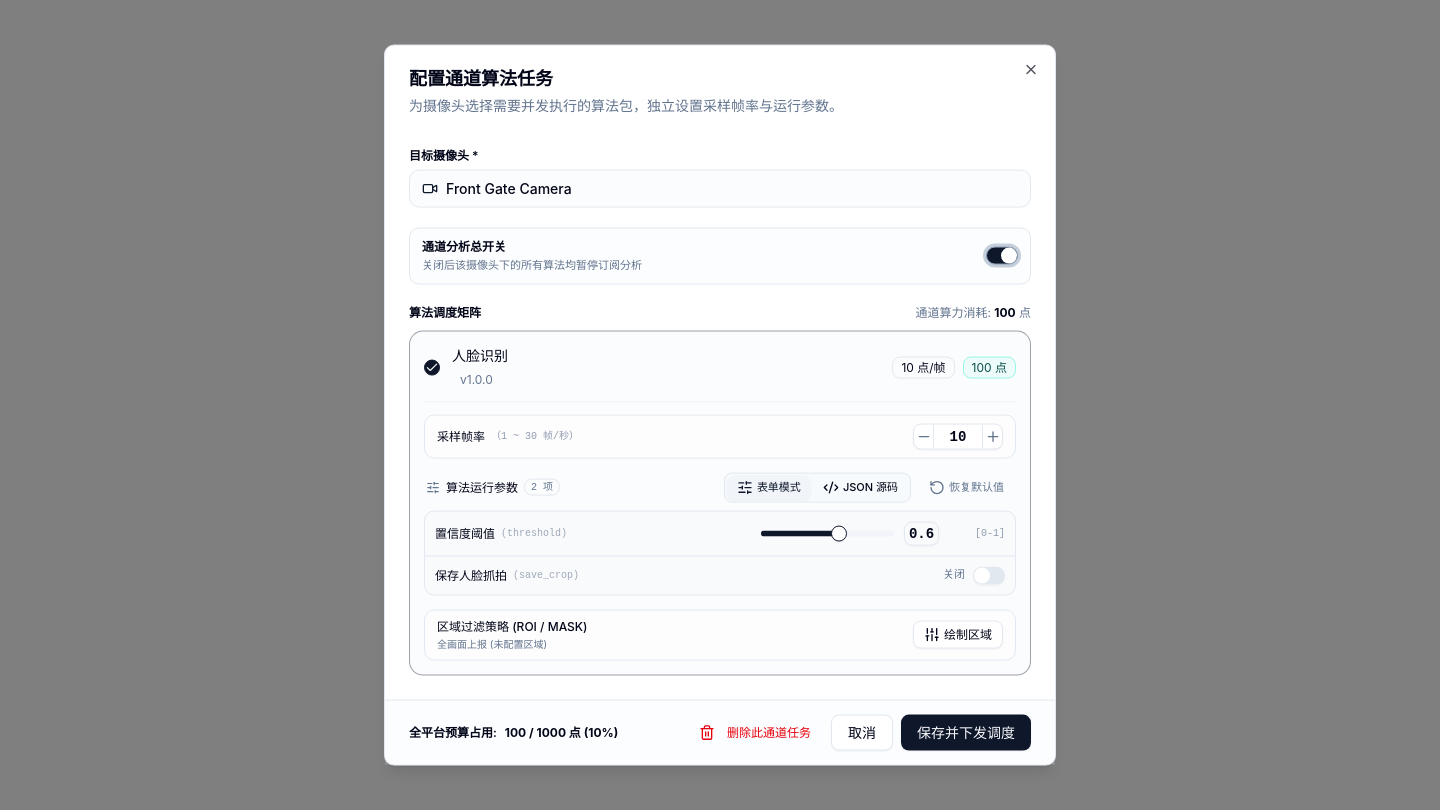
it: ChannelTaskDialog › clamps a typed sampling rate into the allowed range
Replace the text in the field named "采样帧率" with "99" at (958, 436), box [934,424,982,448]
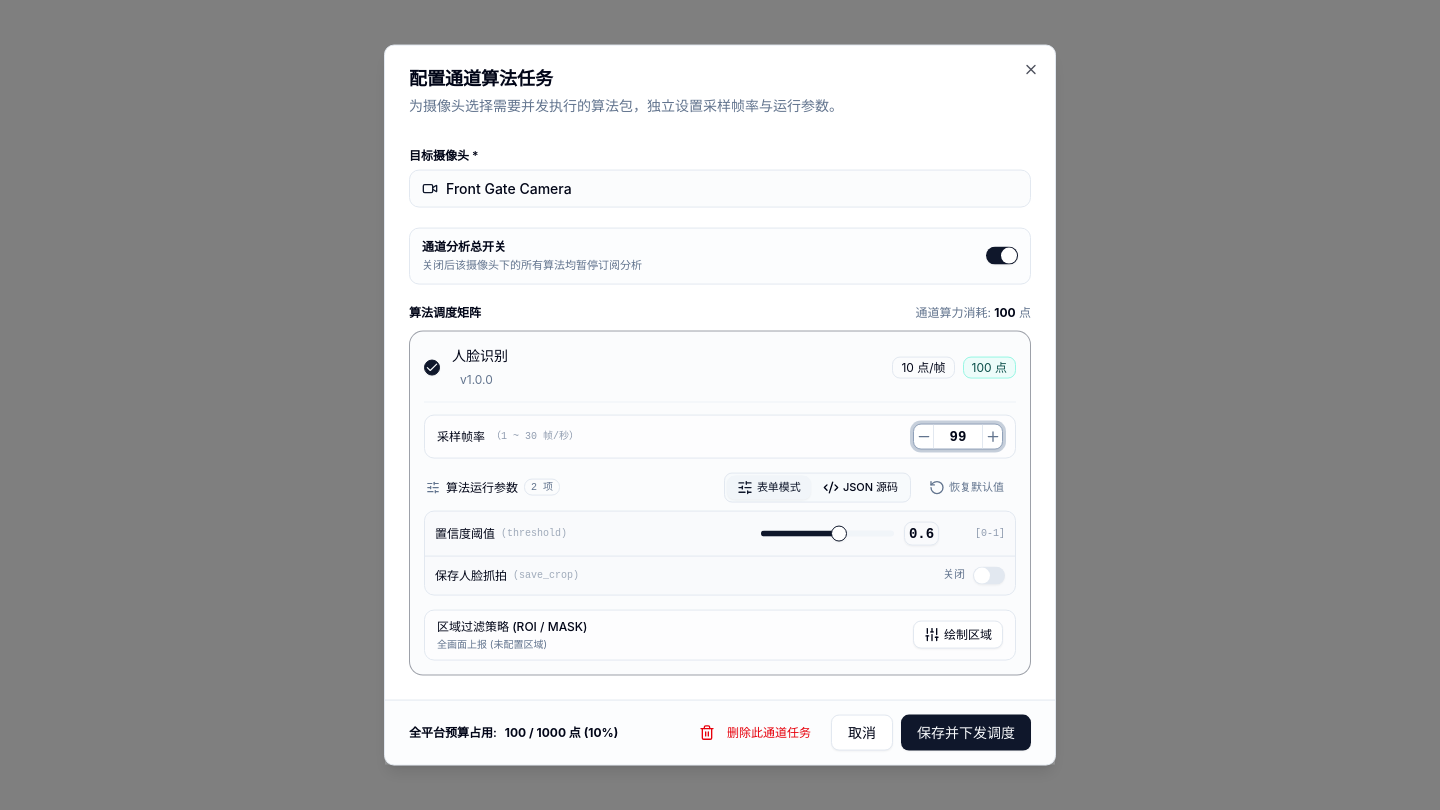
Press Enter
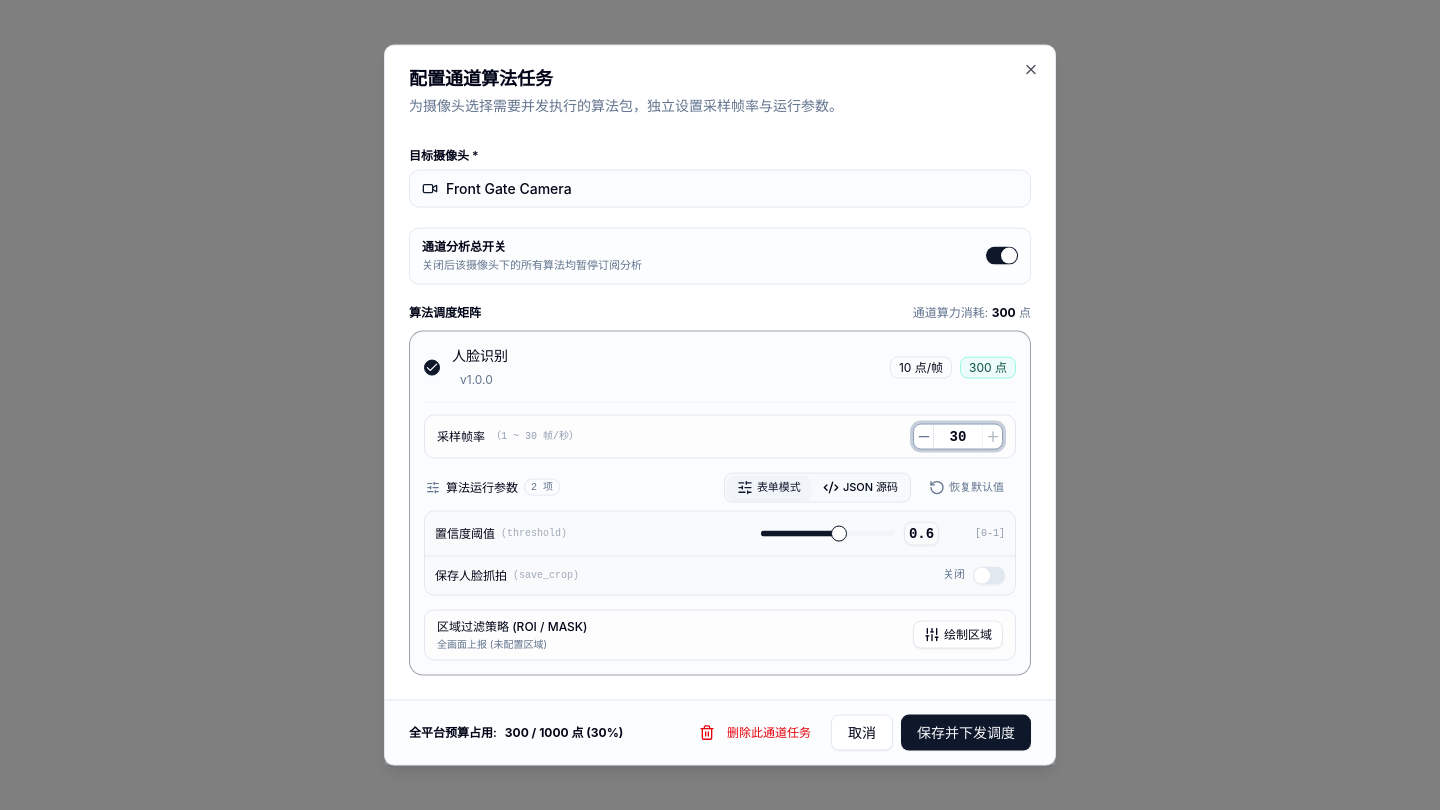
Expected: the field named "采样帧率" holds "30", [934,424,982,448]
